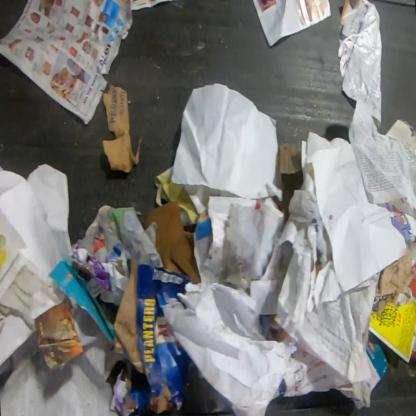cardboard: (113, 261, 193, 415), (47, 259, 115, 349)
